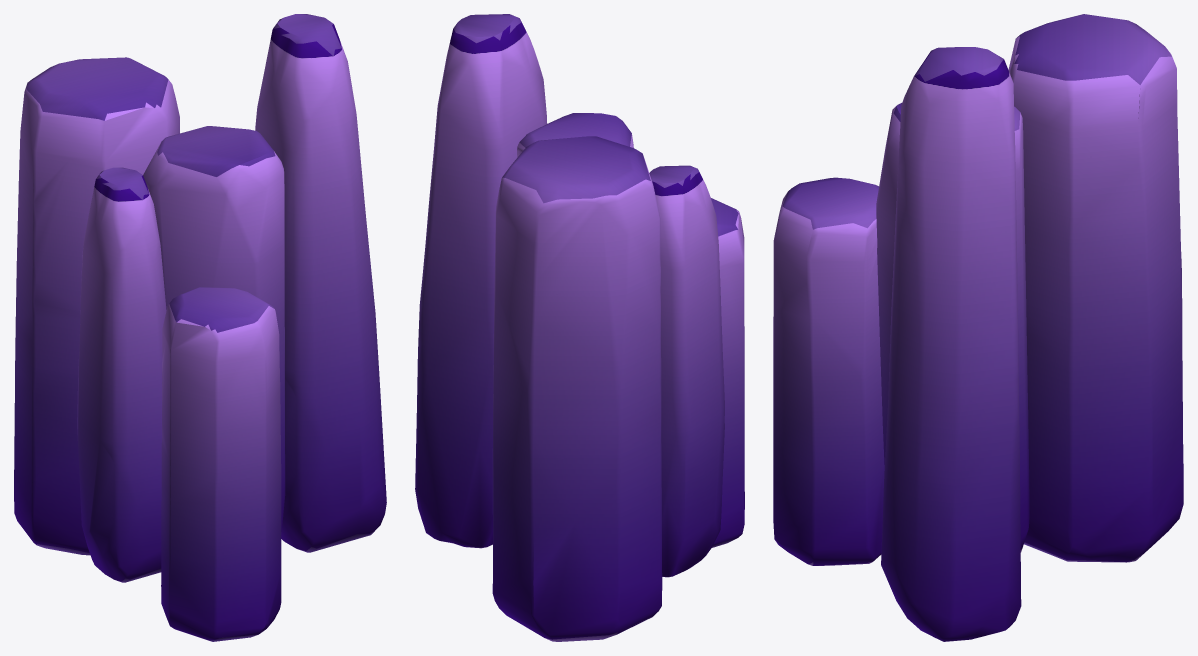
Rendered from SM_crystal_flat_group_03.glb.
3 renders of one model, left to right at view 1: azimuth 30°, elevation 25°; view 2: azimuth 150°, elevation 25°; view 3: azimuth 270°, elevation 25°, orthographic. The views are drawn at different scales.
Visible parts, largest first — view 1: SM_crystal_flat_group_03; view 2: SM_crystal_flat_group_03; view 3: SM_crystal_flat_group_03.
Part boxes in pixels (x1,y1,x2,y2): SM_crystal_flat_group_03: (14, 14, 386, 641); SM_crystal_flat_group_03: (415, 14, 744, 641); SM_crystal_flat_group_03: (773, 14, 1183, 641).
Bounding box in the file's own units: 2.56 × 4.35 × 2.85.
1 material, 1 textured.
